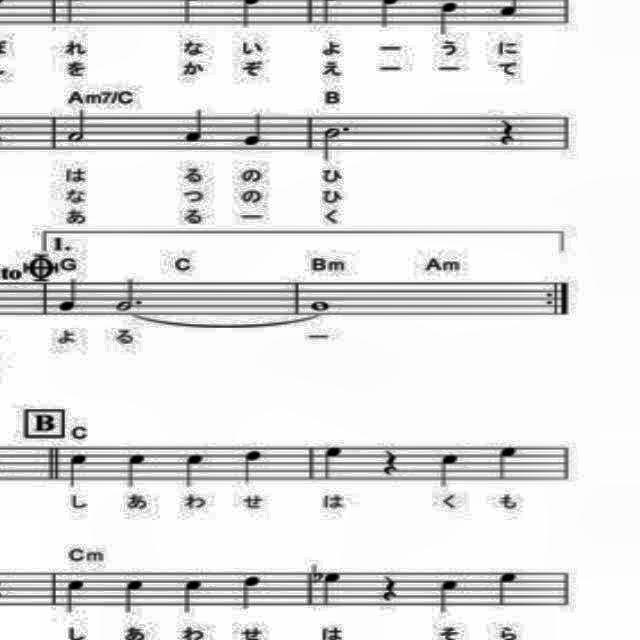Full-note: (304, 296, 334, 316)
Half-dot: (318, 120, 356, 164), (112, 272, 148, 316)
Half-note: (64, 104, 90, 148)
Quarter-note: (178, 574, 208, 618), (435, 574, 465, 618), (239, 444, 269, 488), (318, 441, 348, 484), (61, 574, 90, 618), (54, 273, 84, 315), (492, 568, 522, 610), (316, 567, 346, 609), (122, 574, 150, 618), (238, 570, 266, 614), (240, 108, 268, 152), (180, 104, 208, 148), (179, 451, 209, 492), (64, 450, 92, 492), (124, 448, 152, 490), (493, 441, 521, 483), (436, 451, 464, 492), (434, 0, 465, 36)
Quarter-rest: (493, 113, 521, 151), (377, 569, 403, 607), (376, 446, 402, 482)
